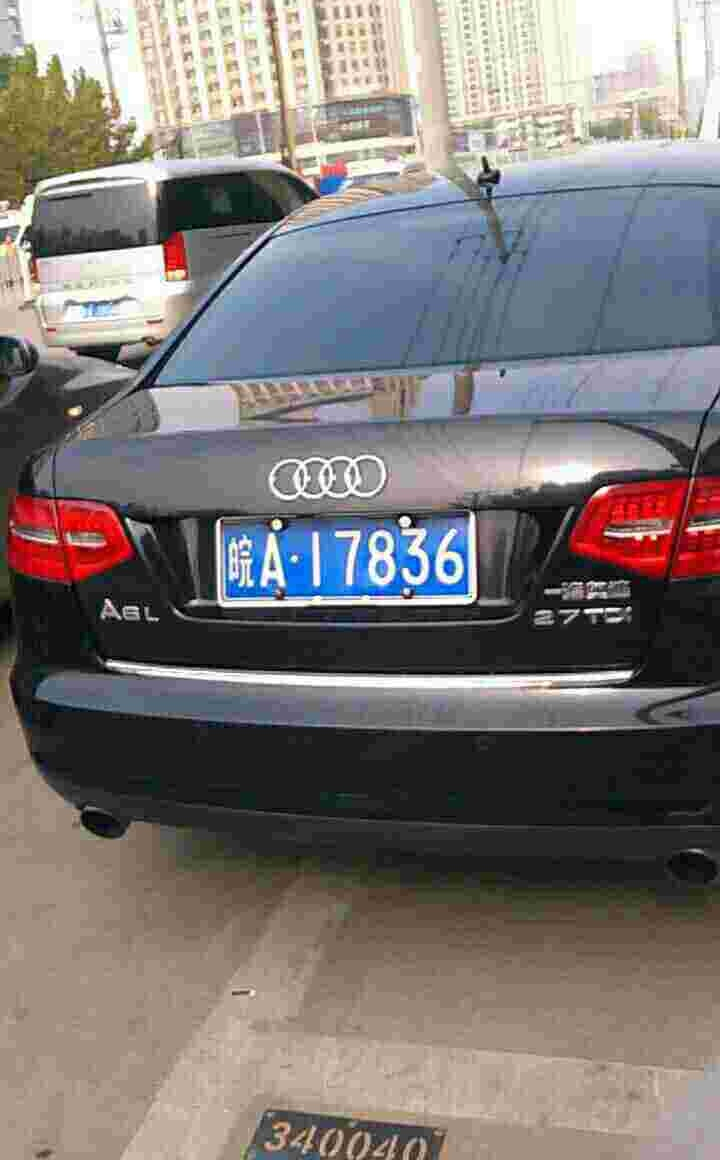license_plate: (221, 522, 478, 602)
